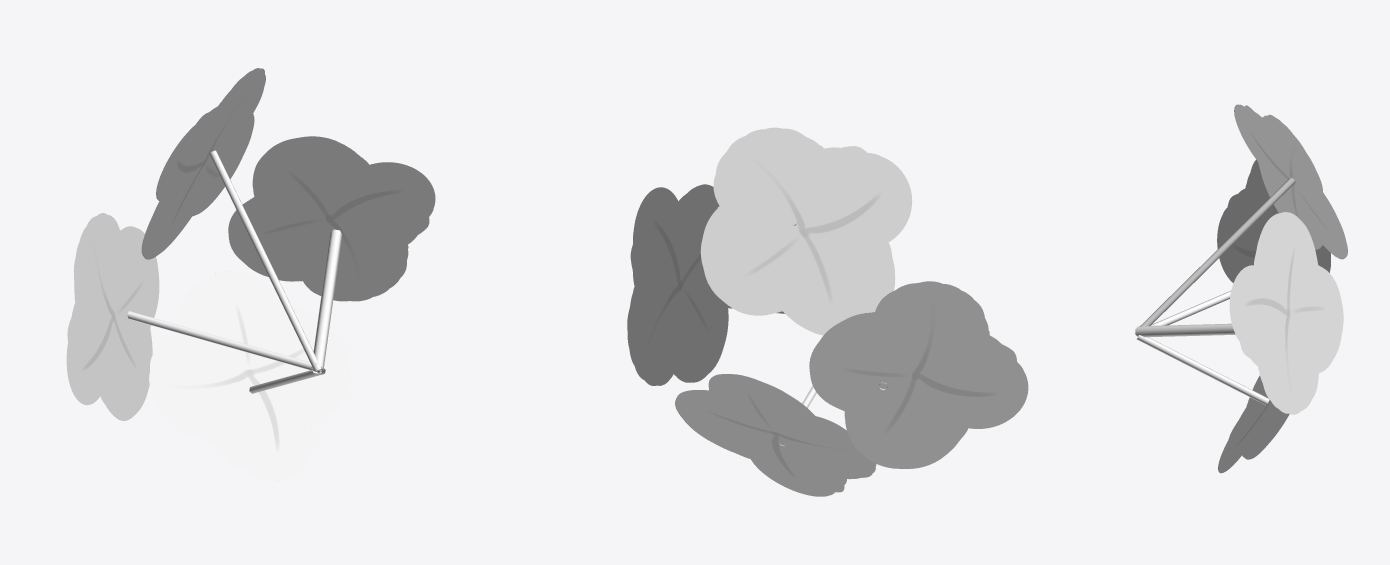
File: Plant.fbx
The picture shows the model from 3 angles, left to right: view 1: azimuth 30°, elevation 25°; view 2: azimuth 150°, elevation 25°; view 3: azimuth 270°, elevation 25°; orthographic projection. The views are drawn at different scales.
Visible parts, largest first — view 1: BezierCurve.001; view 2: BezierCurve.001; view 3: BezierCurve.001.
Part boxes in pixels (left/top/right/bottom): BezierCurve.001: left=66, top=68, right=435, bottom=481; BezierCurve.001: left=627, top=127, right=1028, bottom=496; BezierCurve.001: left=1135, top=104, right=1347, bottom=473.
Bounding box in the file's own units: 1024 × 2347 × 2164.
